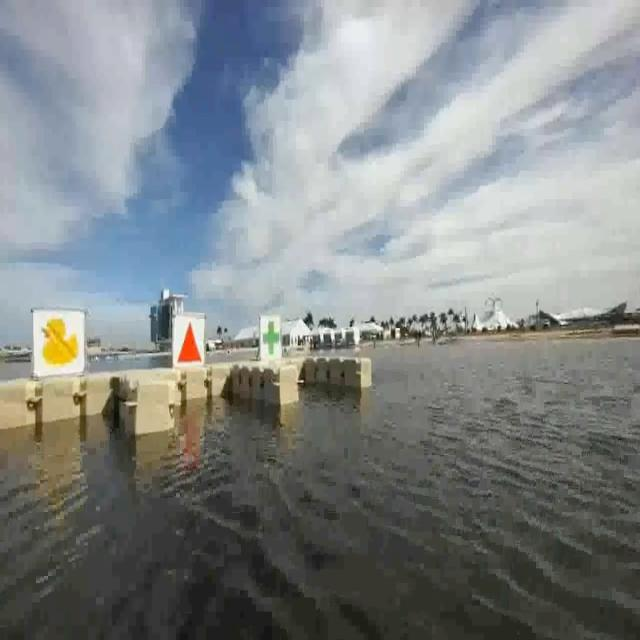blue-cross: (261, 313, 287, 366)
red-dot: (174, 314, 205, 365)
yellow-duck: (31, 308, 84, 376)
